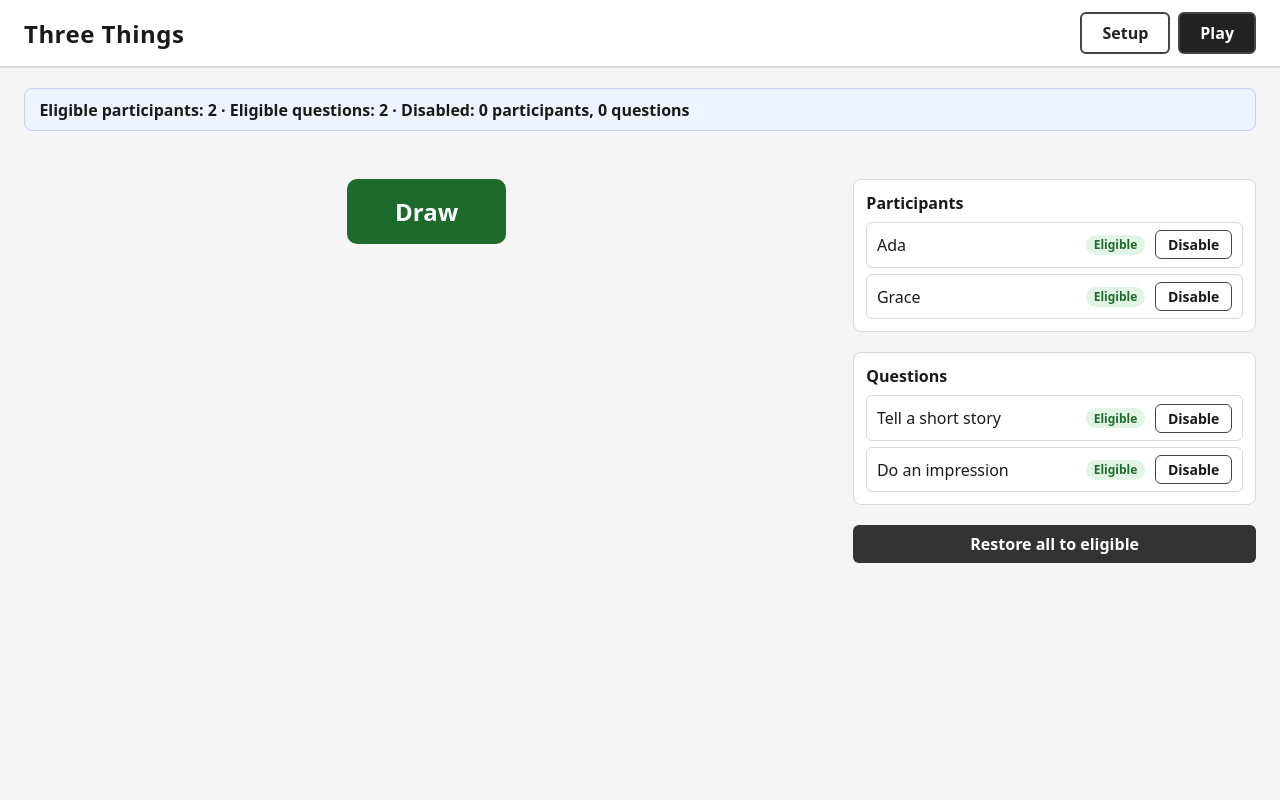
it: timing settings flow › reveals with no visible animation and counts down from the configured answer time (V2, FR-003, SC-001, SC-002)
The width and height of the screenshot is (1280, 800).
Click the button "Setup" at (1125, 33), box [1080,12,1170,54]
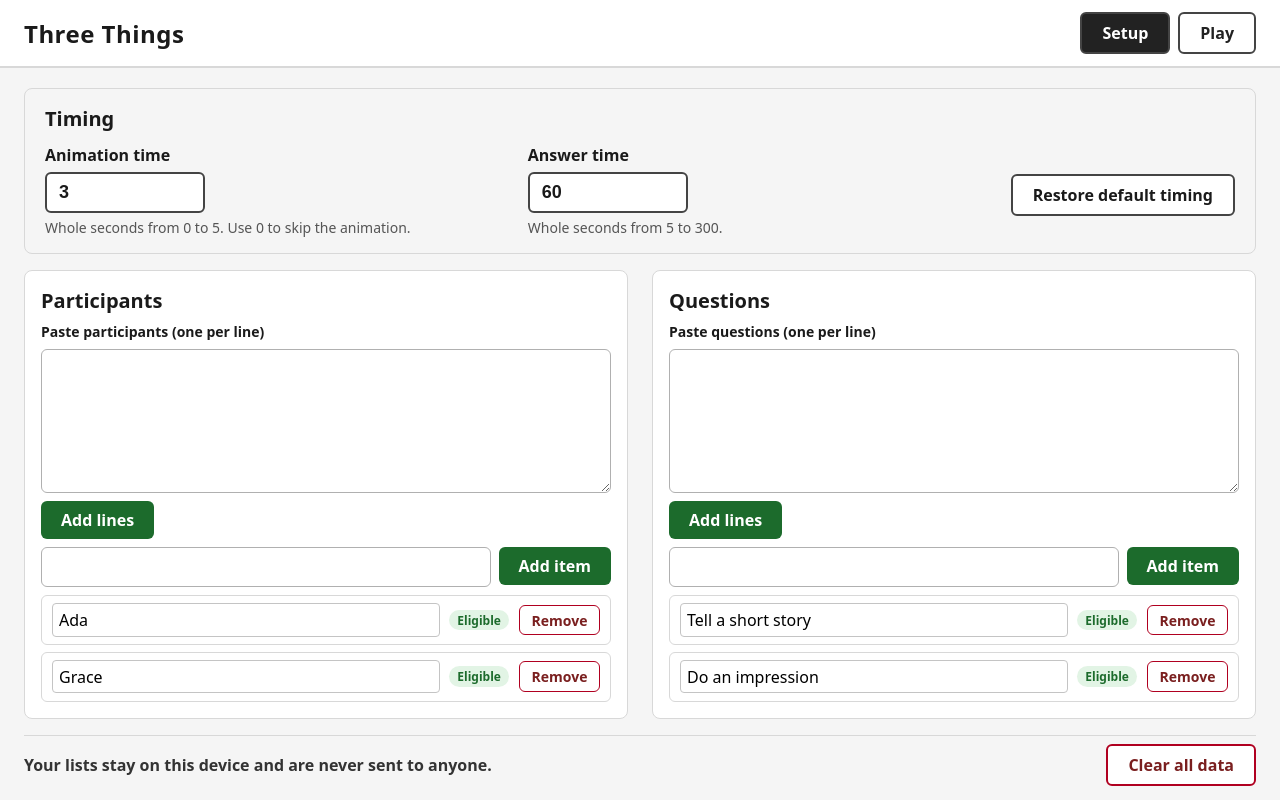
Replace the text in the field labelled "Animation time" with "0" at (125, 192), box [45,172,205,213]
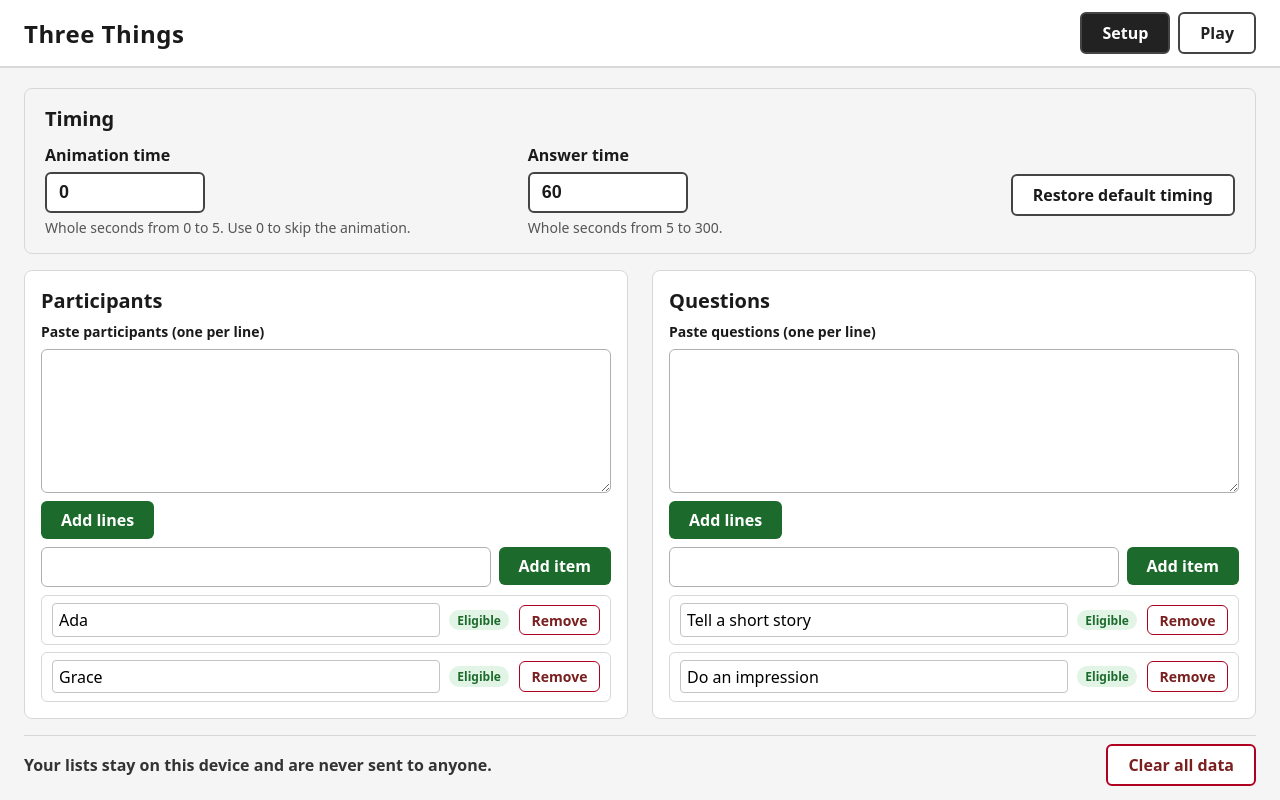
Replace the text in the field labelled "Answer time" with "10" at (608, 192), box [528,172,688,213]
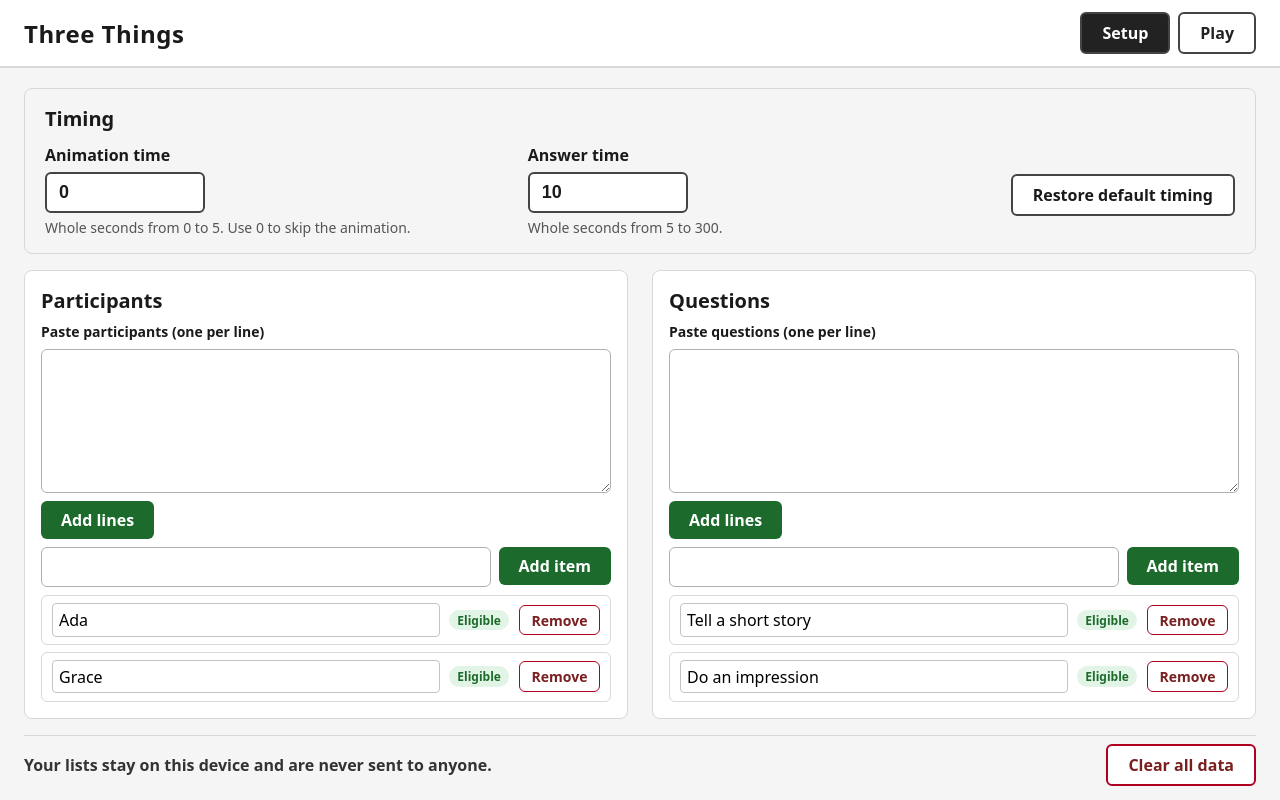
Press Enter in the field labelled "Answer time", box [528,172,688,213]
Click the button "Play" at (1217, 33), box [1178,12,1256,54]
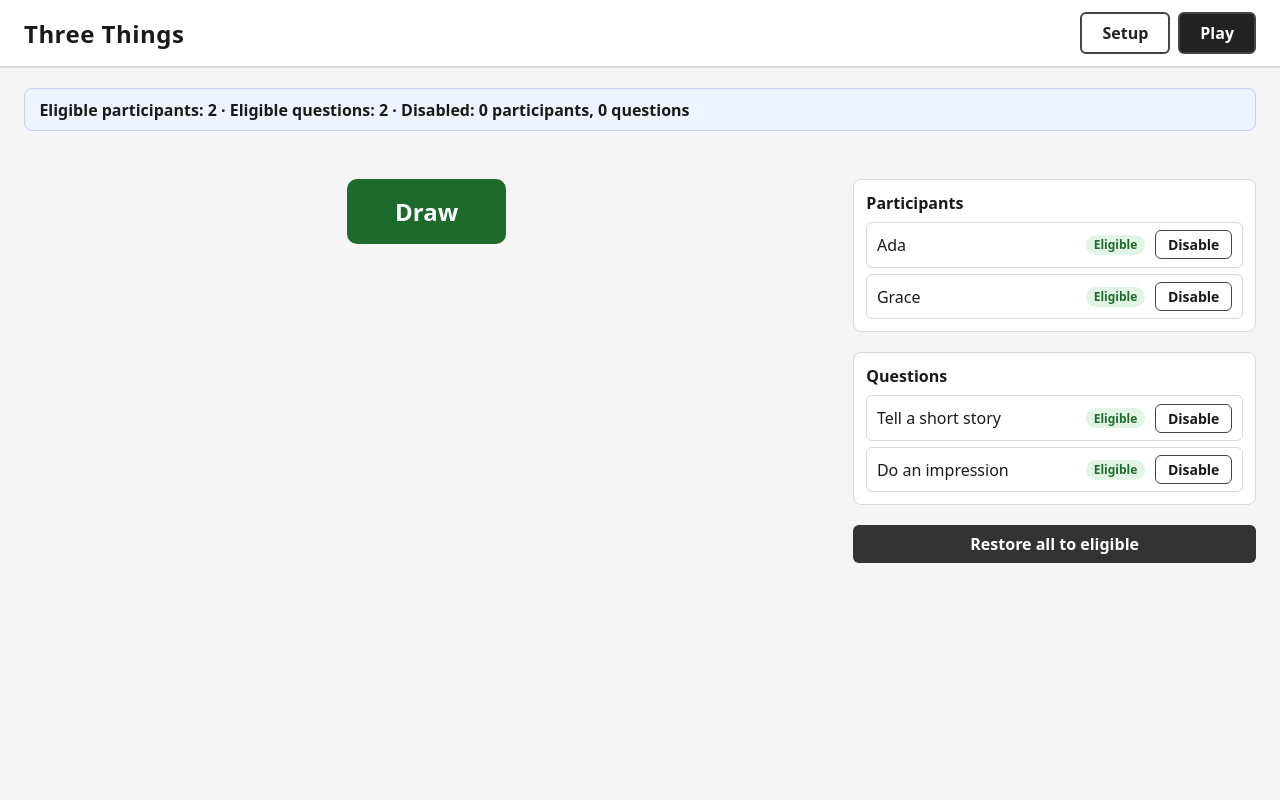
Click the button "Draw" at (427, 212), box [347,179,506,244]
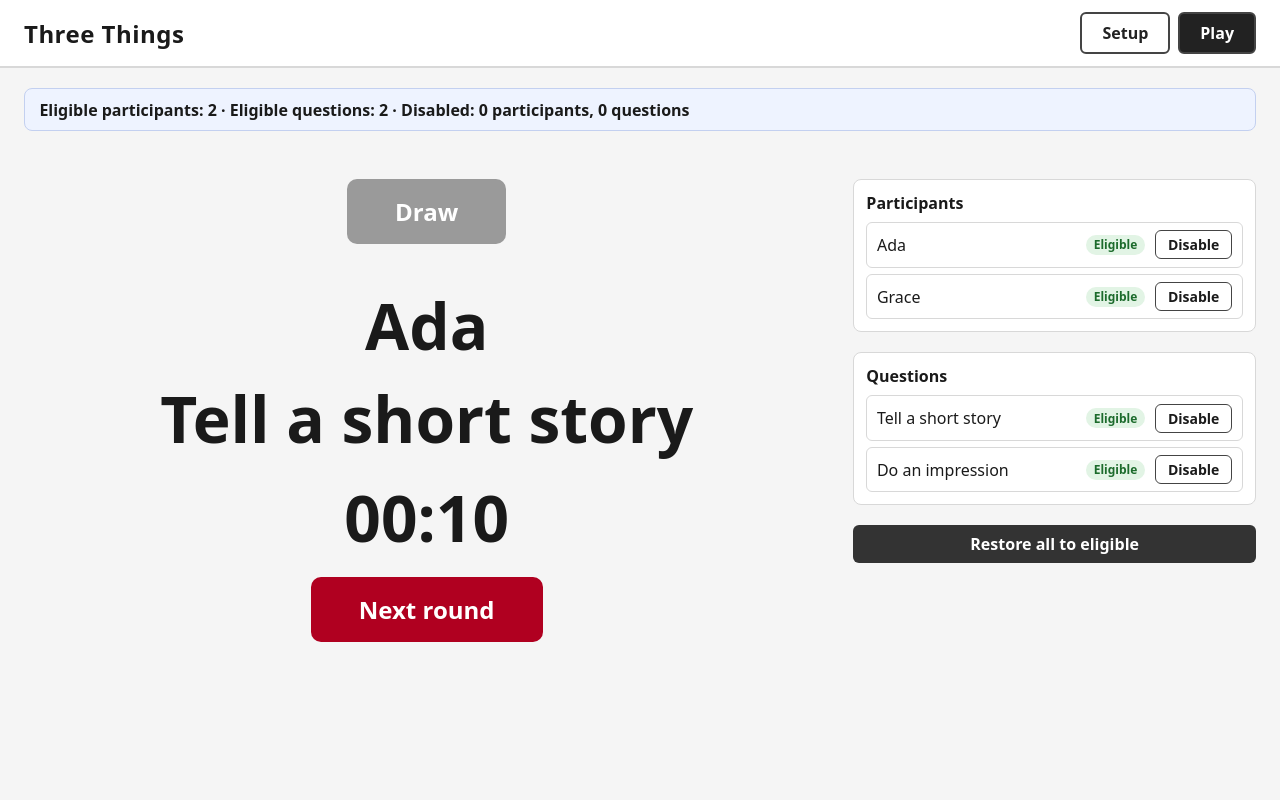
Result: the element named "Current round" is shown at [136,264,717,666]
